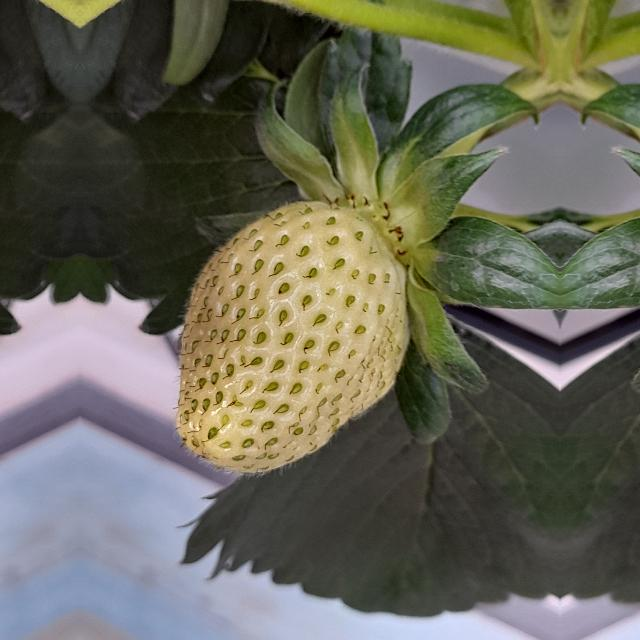Health_25: (171, 200, 411, 476)
